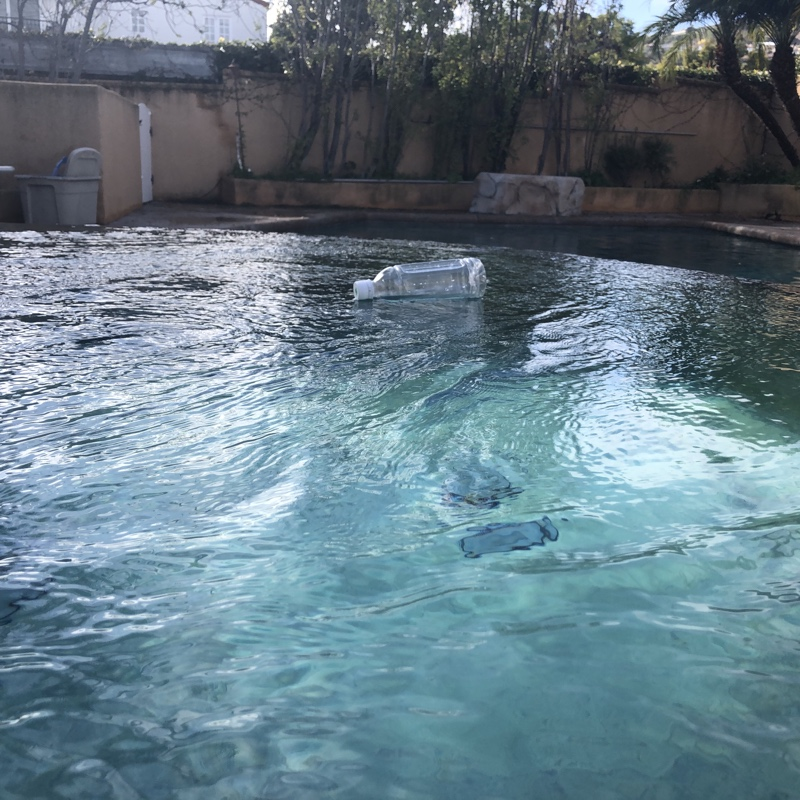Plastic Bottle: (345, 252, 491, 309)
